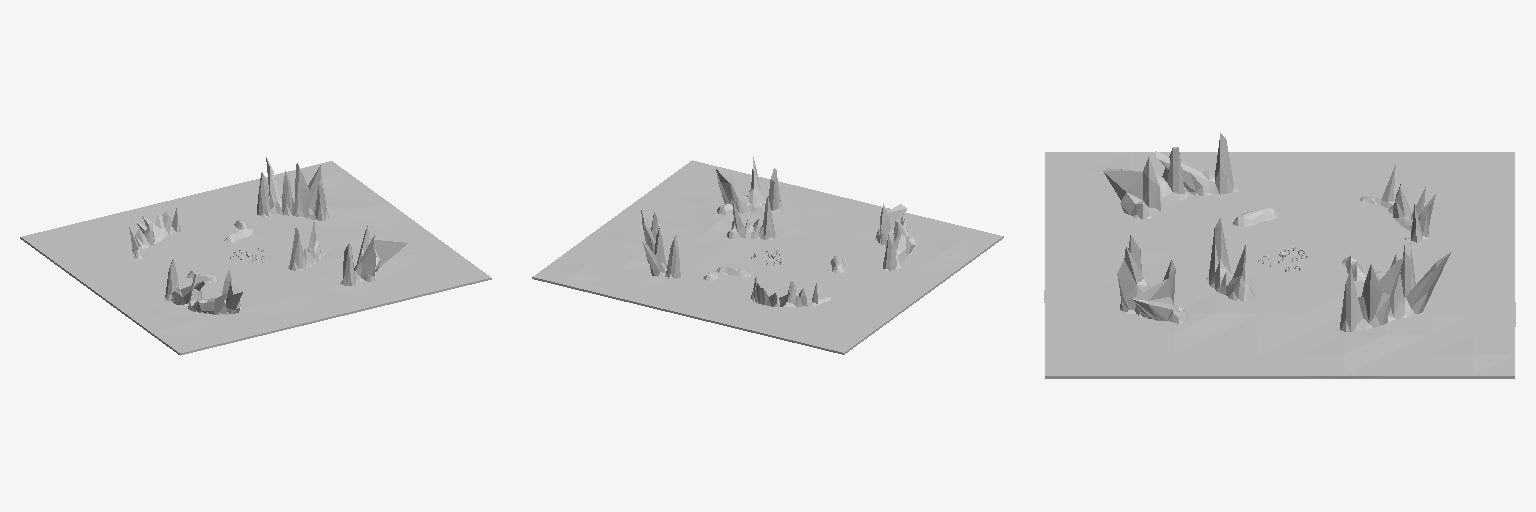
The robot description file, URDF, robot "modeltest1":
<?xml version="1.0"?>
<!-- created with Phobos 1.0.1 "Capricious Choutengan" -->
  <robot name="modeltest1">

    <link name="new_link">
      <inertial>
        <origin xyz="-0.53518 0.77912 0.7873" rpy="0 0 0"/>
        <mass value="80.0"/>
        <inertia ixx="88.13869" ixy="28.08042" ixz="-0.74126" iyy="50.61452" iyz="14.82888" izz="63.17643"/>
      </inertial>
      <visual name="Cube">
        <origin xyz="0 1.73508 0.1831" rpy="0 0 0"/>
        <geometry>
          <mesh filename="..\meshes\dae\Cube.001.dae" scale="0.119 0.119 0.01244"/>
        </geometry>
        <material name="Material.001"/>
      </visual>
      <visual name="Flag Pole">
        <origin xyz="-0.7607 -1.63161 0.38034" rpy="0 0 0"/>
        <geometry>
          <mesh filename="..\meshes\dae\Cylinder.dae" scale="0.00652 0.00652 0.26092"/>
        </geometry>
        <material name="Material.003"/>
      </visual>
      <visual name="Grass">
        <origin xyz="0 0 0" rpy="0 0 0"/>
        <geometry>
          <mesh filename="..\meshes\dae\Cube.006.dae" scale="25.58492 22.68643 0.15866"/>
        </geometry>
        <material name="Material.015"/>
      </visual>
      <visual name="Icosphere">
        <origin xyz="-0.9766 0.32739 0.64423" rpy="0 0 0"/>
        <geometry>
          <mesh filename="..\meshes\dae\Icosphere.001.dae" scale="0.17457 0.17457 0.17457"/>
        </geometry>
        <material name="Material.005"/>
      </visual>
      <visual name="Icosphere.001">
        <origin xyz="-1.87288 0.54213 0.15712" rpy="0 0 0"/>
        <geometry>
          <mesh filename="..\meshes\dae\Icosphere.002.dae" scale="0.17457 0.17457 0.17457"/>
        </geometry>
        <material name="Material.012"/>
      </visual>
      <visual name="Mountains">
        <origin xyz="0 0 0" rpy="0 0 0"/>
        <geometry>
          <mesh filename="..\meshes\dae\Plane.001.dae" scale="18.93395 18.93395 18.93395"/>
        </geometry>
        <material name="Material.013"/>
      </visual>
      <visual name="Plane">
        <origin xyz="-0.7607 -1.45223 0.52711" rpy="-3.14159 -1.5708 0"/>
        <geometry>
          <mesh filename="..\meshes\dae\Plane.dae" scale="0.04892 0.17938 0.03262"/>
        </geometry>
        <material name="Material.flag.001"/>
      </visual>
      <visual name="Torus.001">
        <origin xyz="-1.01076 -1.14048 0.31841" rpy="1.5708 0 0"/>
        <geometry>
          <mesh filename="..\meshes\dae\Torus.001.dae" scale="0.25847 0.25847 0.25847"/>
        </geometry>
        <material name="rings"/>
      </visual>
      <visual name="Torus.002">
        <origin xyz="0.5587 -0.89101 0.27929" rpy="1.5708 0 0"/>
        <geometry>
          <mesh filename="..\meshes\dae\Torus.002.dae" scale="0.25847 0.25847 0.25847"/>
        </geometry>
        <material name="rings"/>
      </visual>
      <visual name="Torus.003">
        <origin xyz="-0.23409 0.06915 0.31361" rpy="1.5708 0 -0.75334"/>
        <geometry>
          <mesh filename="..\meshes\dae\Torus.003.dae" scale="0.25847 0.25847 0.25847"/>
        </geometry>
        <material name="rings"/>
      </visual>
      <visual name="Torus.004">
        <origin xyz="1.67258 0.73736 0.30735" rpy="1.5708 0 -0.75334"/>
        <geometry>
          <mesh filename="..\meshes\dae\Torus.004.dae" scale="0.25847 0.25847 0.25847"/>
        </geometry>
        <material name="rings"/>
      </visual>
      <visual name="Torus.005">
        <origin xyz="-2.35525 0.65854 0.32186" rpy="1.5708 0 -1.48943"/>
        <geometry>
          <mesh filename="..\meshes\dae\Torus.005.dae" scale="0.25847 0.25847 0.25847"/>
        </geometry>
        <material name="rings"/>
      </visual>
      <visual name="Torus.006">
        <origin xyz="-0.58117 1.42455 0.30498" rpy="1.5708 0 -1.11838"/>
        <geometry>
          <mesh filename="..\meshes\dae\Torus.006.dae" scale="0.25847 0.25847 0.25847"/>
        </geometry>
        <material name="rings"/>
      </visual>
      <visual name="Torus.007">
        <origin xyz="-1.21257 2.32553 0.33361" rpy="1.5708 0 -1.48943"/>
        <geometry>
          <mesh filename="..\meshes\dae\Torus.007.dae" scale="0.25847 0.25847 0.25847"/>
        </geometry>
        <material name="rings"/>
      </visual>
      <visual name="Torus.008">
        <origin xyz="-2.17413 2.07883 0.35214" rpy="1.5708 0 -1.48943"/>
        <geometry>
          <mesh filename="..\meshes\dae\Torus.008.dae" scale="0.25847 0.25847 0.25847"/>
        </geometry>
        <material name="rings"/>
      </visual>
      <visual name="Torus.009">
        <origin xyz="-3.09024 1.38871 0.2738" rpy="1.5708 0 2.97589"/>
        <geometry>
          <mesh filename="..\meshes\dae\Torus.009.dae" scale="0.25847 0.25847 0.25847"/>
        </geometry>
        <material name="rings"/>
      </visual>
      <visual name="Torus.010">
        <origin xyz="1.46994 1.69207 0.32122" rpy="1.5708 0 -1.93577"/>
        <geometry>
          <mesh filename="..\meshes\dae\Torus.010.dae" scale="0.25847 0.25847 0.25847"/>
        </geometry>
        <material name="rings"/>
      </visual>
      <visual name="Torus.011">
        <origin xyz="-0.10843 -1.84634 0.30782" rpy="1.5708 0 -1.71827"/>
        <geometry>
          <mesh filename="..\meshes\dae\Torus.011.dae" scale="0.25847 0.25847 0.25847"/>
        </geometry>
        <material name="rings"/>
      </visual>
      <visual name="Tree1">
        <origin xyz="-1.09978 0.28618 0.16364" rpy="0 0 0"/>
        <geometry>
          <mesh filename="..\meshes\dae\Cylinder.000.dae" scale="0.03514 0.03514 0.03514"/>
        </geometry>
        <material name="Material.006"/>
      </visual>
      <visual name="Tree1.001">
        <origin xyz="-1.09978 0.28618 0.16364" rpy="0 0 0"/>
        <geometry>
          <mesh filename="..\meshes\dae\Cylinder.001.dae" scale="0.03514 0.03514 0.03514"/>
        </geometry>
        <material name="Material.006"/>
      </visual>
      <visual name="Tree2">
        <origin xyz="-1.87721 0.54068 0.14023" rpy="0 0 0"/>
        <geometry>
          <mesh filename="..\meshes\dae\Cylinder.004.dae" scale="0.03514 0.03514 0.03514"/>
        </geometry>
        <material name="Material.011"/>
      </visual>
      <collision name="Big Tree">
        <origin xyz="0.1626 1.24024 1.51999" rpy="0 0 1.90972"/>
        <geometry>
          <mesh filename="..\meshes\dae\Cube.010.dae" scale="1.0 1.0 1.0"/>
        </geometry>
      </collision>
      <collision name="Cube">
        <origin xyz="9.9434 1.73508 0.19042" rpy="0 0 0"/>
        <geometry>
          <mesh filename="..\meshes\dae\Cube.007.dae" scale="1.0 1.0 1.0"/>
        </geometry>
      </collision>
      <collision name="Flag Pole">
        <origin xyz="-0.7607 -1.63161 0.38034" rpy="0 0 0"/>
        <geometry>
          <mesh filename="..\meshes\dae\Cube.016.dae" scale="1.0 1.0 1.0"/>
        </geometry>
      </collision>
      <collision name="Grass">
        <origin xyz="0.00774 -0.0031 0.09525" rpy="0 0 0"/>
        <geometry>
          <mesh filename="..\meshes\dae\Cube.014.dae" scale="1.0 1.0 1.0"/>
        </geometry>
      </collision>
      <collision name="Icosphere">
        <origin xyz="-1.0715 0.27382 0.61171" rpy="0 0 0"/>
        <geometry>
          <mesh filename="..\meshes\dae\Cube.011.dae" scale="1.0 1.0 1.0"/>
        </geometry>
      </collision>
      <collision name="Icosphere.001">
        <origin xyz="-1.87622 0.54024 0.15598" rpy="0 0 0"/>
        <geometry>
          <mesh filename="..\meshes\dae\Cube.012.dae" scale="1.0 1.0 1.0"/>
        </geometry>
      </collision>
      <collision name="Mountains">
        <origin xyz="0 0 3.79302" rpy="0 0 0"/>
        <geometry>
          <mesh filename="..\meshes\dae\Cube.015.dae" scale="1.0 1.0 1.0"/>
        </geometry>
      </collision>
      <collision name="Plane">
        <origin xyz="-0.76011 -1.45223 0.52482" rpy="-3.14159 -1.5708 0"/>
        <geometry>
          <mesh filename="..\meshes\dae\Cube.017.dae" scale="1.0 1.0 1.0"/>
        </geometry>
      </collision>
      <collision name="Torus.001">
        <origin xyz="-1.01076 -1.14048 0.31841" rpy="1.5708 0 0"/>
        <geometry>
          <mesh filename="..\meshes\dae\Cube.018.dae" scale="1.0 1.0 1.0"/>
        </geometry>
      </collision>
      <collision name="Torus.002">
        <origin xyz="0.5587 -0.89101 0.27929" rpy="1.5708 0 0"/>
        <geometry>
          <mesh filename="..\meshes\dae\Cube.019.dae" scale="1.0 1.0 1.0"/>
        </geometry>
      </collision>
      <collision name="Torus.003">
        <origin xyz="-0.23409 0.06915 0.31361" rpy="1.5708 0 -0.75334"/>
        <geometry>
          <mesh filename="..\meshes\dae\Cube.020.dae" scale="1.0 1.0 1.0"/>
        </geometry>
      </collision>
      <collision name="Torus.004">
        <origin xyz="1.67258 0.73736 0.30735" rpy="1.5708 0 -0.75334"/>
        <geometry>
          <mesh filename="..\meshes\dae\Cube.021.dae" scale="1.0 1.0 1.0"/>
        </geometry>
      </collision>
      <collision name="Torus.005">
        <origin xyz="-2.35525 0.65854 0.32186" rpy="1.5708 0 -1.48943"/>
        <geometry>
          <mesh filename="..\meshes\dae\Cube.022.dae" scale="1.0 1.0 1.0"/>
        </geometry>
      </collision>
      <collision name="Torus.006">
        <origin xyz="-0.58117 1.42455 0.30498" rpy="1.5708 0 -1.11838"/>
        <geometry>
          <mesh filename="..\meshes\dae\Cube.023.dae" scale="1.0 1.0 1.0"/>
        </geometry>
      </collision>
      <collision name="Torus.007">
        <origin xyz="-1.21257 2.32553 0.33361" rpy="1.5708 0 -1.48943"/>
        <geometry>
          <mesh filename="..\meshes\dae\Cube.024.dae" scale="1.0 1.0 1.0"/>
        </geometry>
      </collision>
      <collision name="Torus.008">
        <origin xyz="-2.17413 2.07883 0.35214" rpy="1.5708 0 -1.48943"/>
        <geometry>
          <mesh filename="..\meshes\dae\Cube.025.dae" scale="1.0 1.0 1.0"/>
        </geometry>
      </collision>
      <collision name="Torus.009">
        <origin xyz="-3.09024 1.38871 0.2738" rpy="1.5708 0 2.97589"/>
        <geometry>
          <mesh filename="..\meshes\dae\Cube.026.dae" scale="1.0 1.0 1.0"/>
        </geometry>
      </collision>
      <collision name="Torus.010">
        <origin xyz="1.46994 1.69207 0.32122" rpy="1.5708 0 -1.93577"/>
        <geometry>
          <mesh filename="..\meshes\dae\Cube.027.dae" scale="1.0 1.0 1.0"/>
        </geometry>
      </collision>
      <collision name="Torus.011">
        <origin xyz="-0.10843 -1.84634 0.30782" rpy="1.5708 0 -1.71827"/>
        <geometry>
          <mesh filename="..\meshes\dae\Cube.028.dae" scale="1.0 1.0 1.0"/>
        </geometry>
      </collision>
      <collision name="Tree1">
        <origin xyz="-1.06781 0.25249 0.40715" rpy="0 0 0"/>
        <geometry>
          <mesh filename="..\meshes\dae\Cube.008.dae" scale="1.0 1.0 1.0"/>
        </geometry>
      </collision>
      <collision name="Tree2">
        <origin xyz="-1.84524 0.50699 0.38374" rpy="0 0 0"/>
        <geometry>
          <mesh filename="..\meshes\dae\Cube.009.dae" scale="1.0 1.0 1.0"/>
        </geometry>
      </collision>
    </link>

    <material name="Material.001">
      <color rgba="0.8 0.8 0.8 1.0"/>
    </material>

    <material name="Material.003">
      <color rgba="0.8 0.8 0.8 1.0"/>
    </material>

    <material name="Material.005">
      <color rgba="0.8 0.8 0.8 1.0"/>
    </material>

    <material name="Material.006">
      <color rgba="0.8 0.8 0.8 1.0"/>
    </material>

    <material name="Material.011">
      <color rgba="0.8 0.8 0.8 1.0"/>
    </material>

    <material name="Material.012">
      <color rgba="0.8 0.8 0.8 1.0"/>
    </material>

    <material name="Material.013">
      <color rgba="0.8 0.8 0.8 1.0"/>
    </material>

    <material name="Material.015">
      <color rgba="0.8 0.8 0.8 1.0"/>
    </material>

    <material name="Material.flag.001">
      <color rgba="0.8 0.8 0.8 1.0"/>
    </material>

    <material name="rings">
      <color rgba="0.8 0.8 0.8 1.0"/>
    </material>

  </robot>

--- Render facts (derived) ---
3 views of the same robot in one strip: view 1: azimuth 30°, elevation 25°; view 2: azimuth 150°, elevation 25°; view 3: azimuth 270°, elevation 25° (orthographic).
Model modeltest1 with 1 links and 0 joints (none), rooted at new_link, posed all joints at 0.
Visible links, largest first — view 1: new_link; view 2: new_link; view 3: new_link.
Boxes of the visible links, x1,y1,x2,y2 form: new_link: [20, 157, 491, 355]; new_link: [532, 157, 1003, 354]; new_link: [1044, 133, 1515, 378].
Size in the robot's own frame: 51.19 by 45.39 by 7.75 metres.
Meshes: 21 distinct files referenced, 21 mesh visuals loaded (21 Collada DAE).